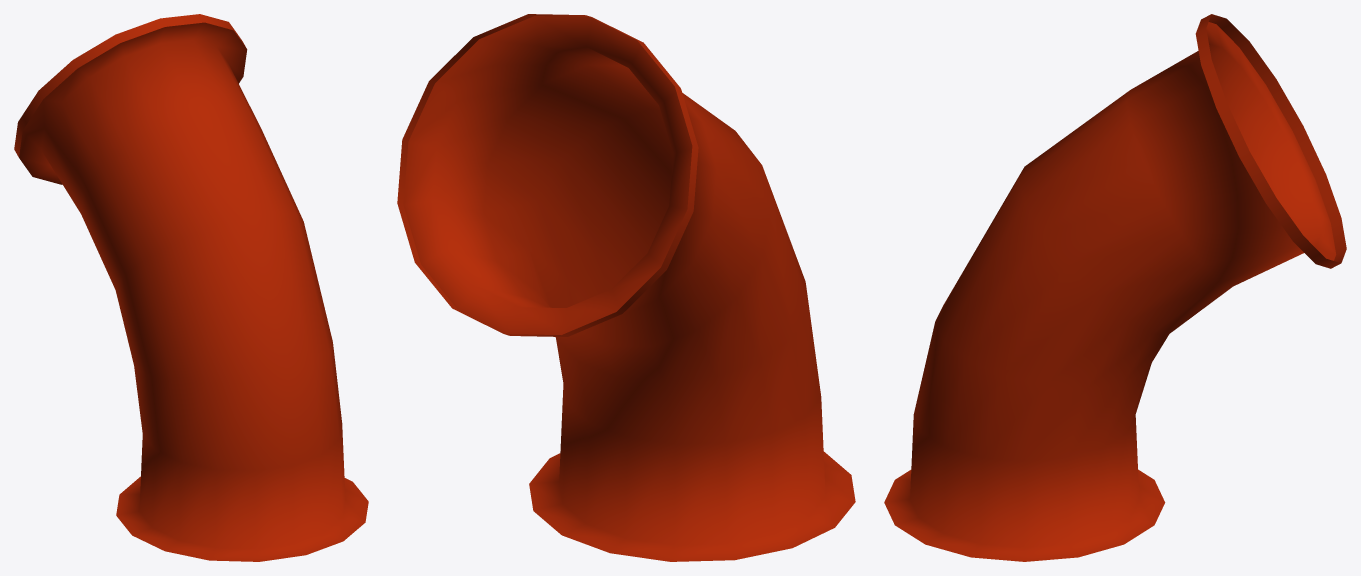
File: Pipe_11_LOD0.FBX
The picture shows the model from 3 angles, left to right: view 1: azimuth 30°, elevation 25°; view 2: azimuth 150°, elevation 25°; view 3: azimuth 270°, elevation 25°; orthographic projection. The views are drawn at different scales.
Visible parts, largest first — view 1: Pipe_up1_010_LOD0; view 2: Pipe_up1_010_LOD0; view 3: Pipe_up1_010_LOD0.
Boxes of the visible parts, bbox=[...] form: Pipe_up1_010_LOD0: bbox=[14, 14, 368, 561]; Pipe_up1_010_LOD0: bbox=[397, 14, 855, 561]; Pipe_up1_010_LOD0: bbox=[884, 14, 1346, 561].
Bounding box in the file's own units: 38 × 70.73 × 62.54.
